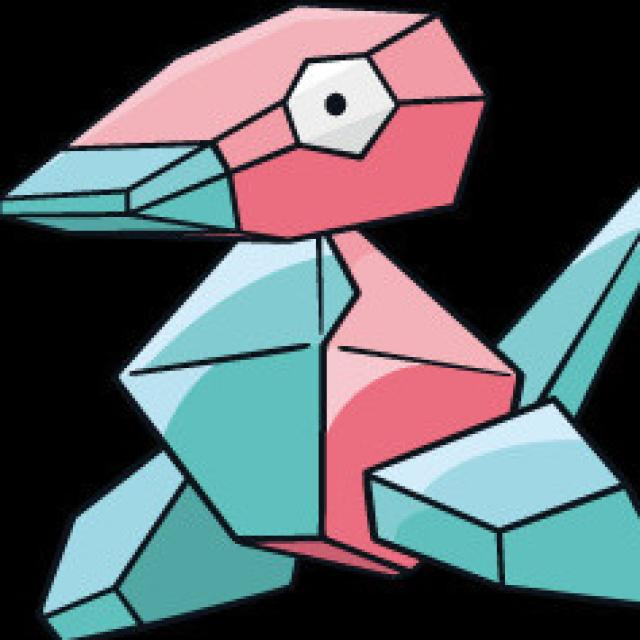Porygon: (54, 6, 524, 596)
